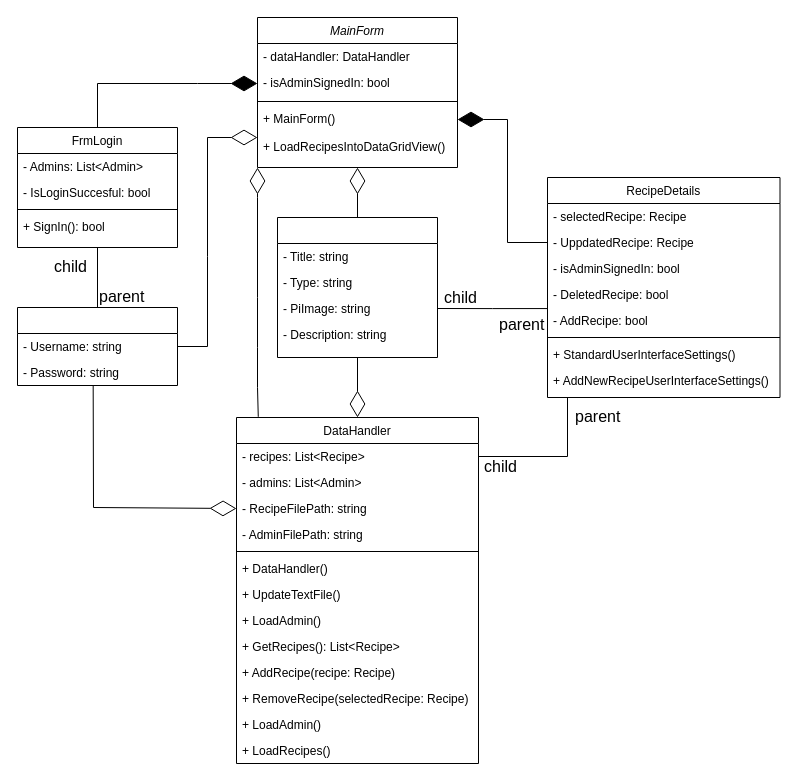
Some shapes in this 798 by 784 pixel diagram are drawn without their labels. The box of each missing label's shape, as (x1, y1, x2, y2) in pixels:
Admin: (16, 306, 178, 386)
Recipe: (276, 216, 438, 358)
